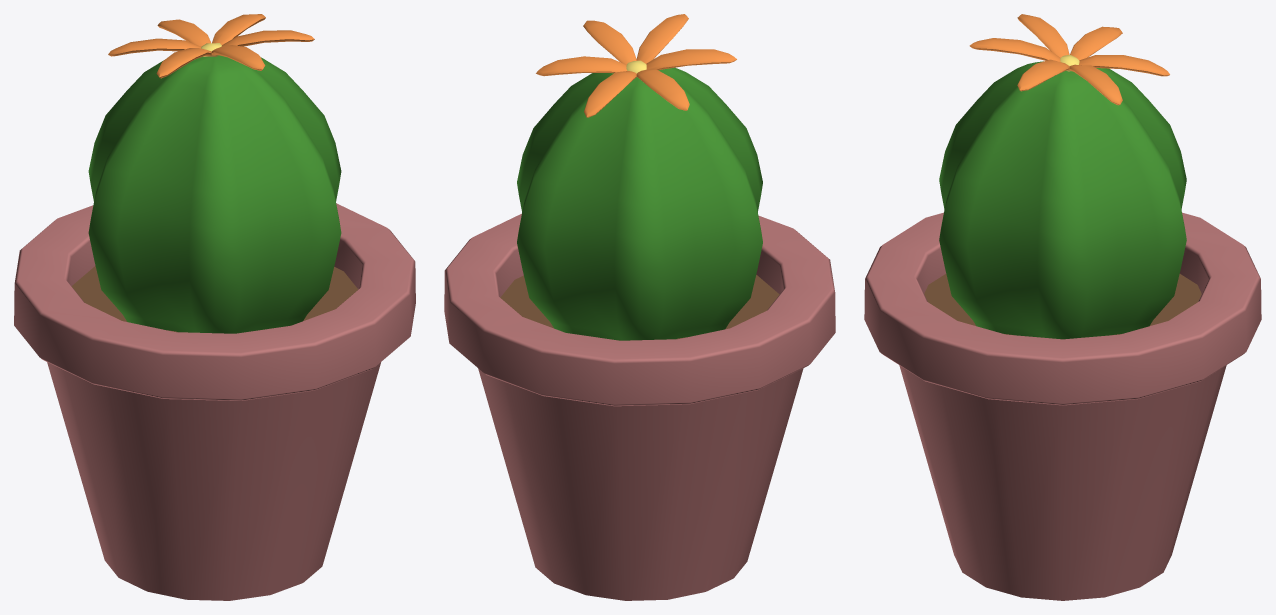
The model's file is Cactus_5.glb.
3 views of the same model, side by side, from view 1: azimuth 30°, elevation 25°; view 2: azimuth 150°, elevation 25°; view 3: azimuth 270°, elevation 25° (orthographic). The views are drawn at different scales.
Visible parts, largest first — view 1: Cactus_5; view 2: Cactus_5; view 3: Cactus_5.
Boxes of the visible parts, x1,y1,x2,y2 form: Cactus_5: (14,14,415,600); Cactus_5: (444,14,835,600); Cactus_5: (864,14,1261,600).
Bounding box in the file's own units: 0.102 × 0.1466 × 0.102.
Materials: 1 (1 with a texture image).
